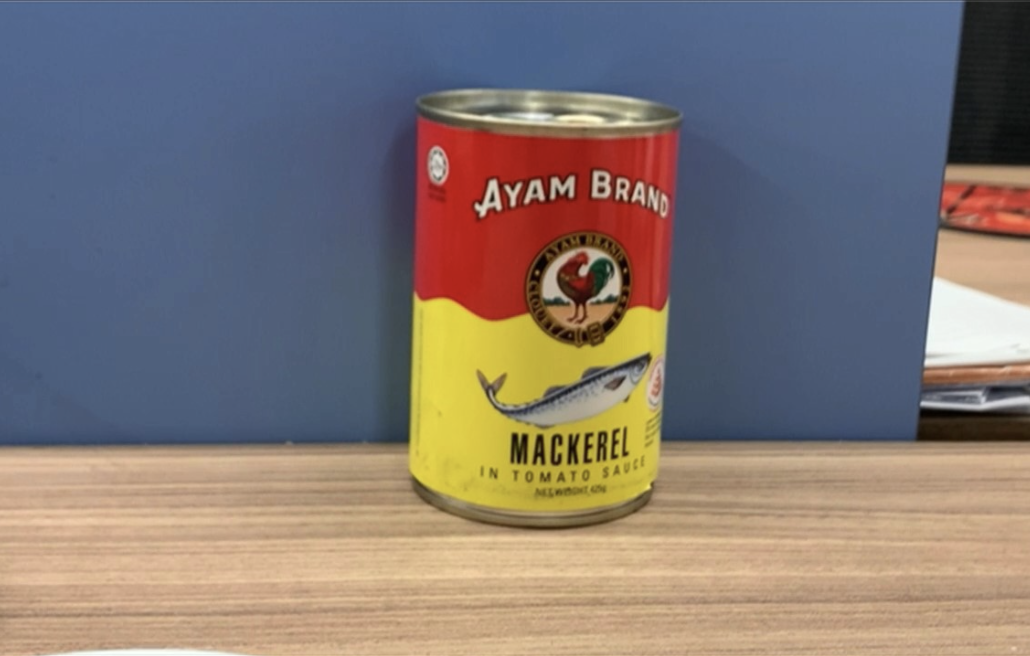sardines_400g-499g: (421, 121, 658, 504)
